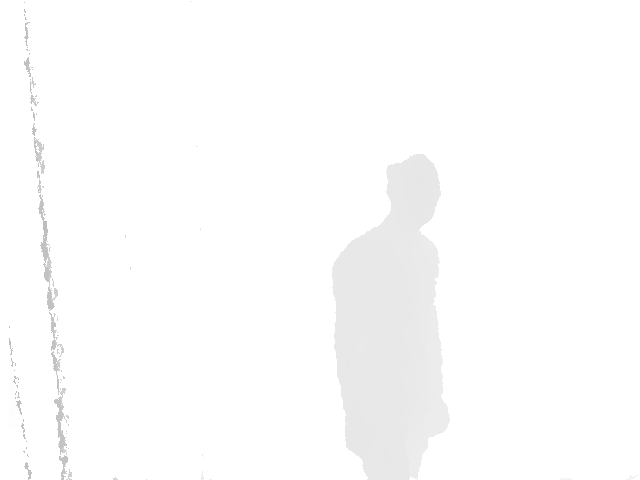head: (385, 153, 442, 233)
person: (330, 154, 452, 480)
